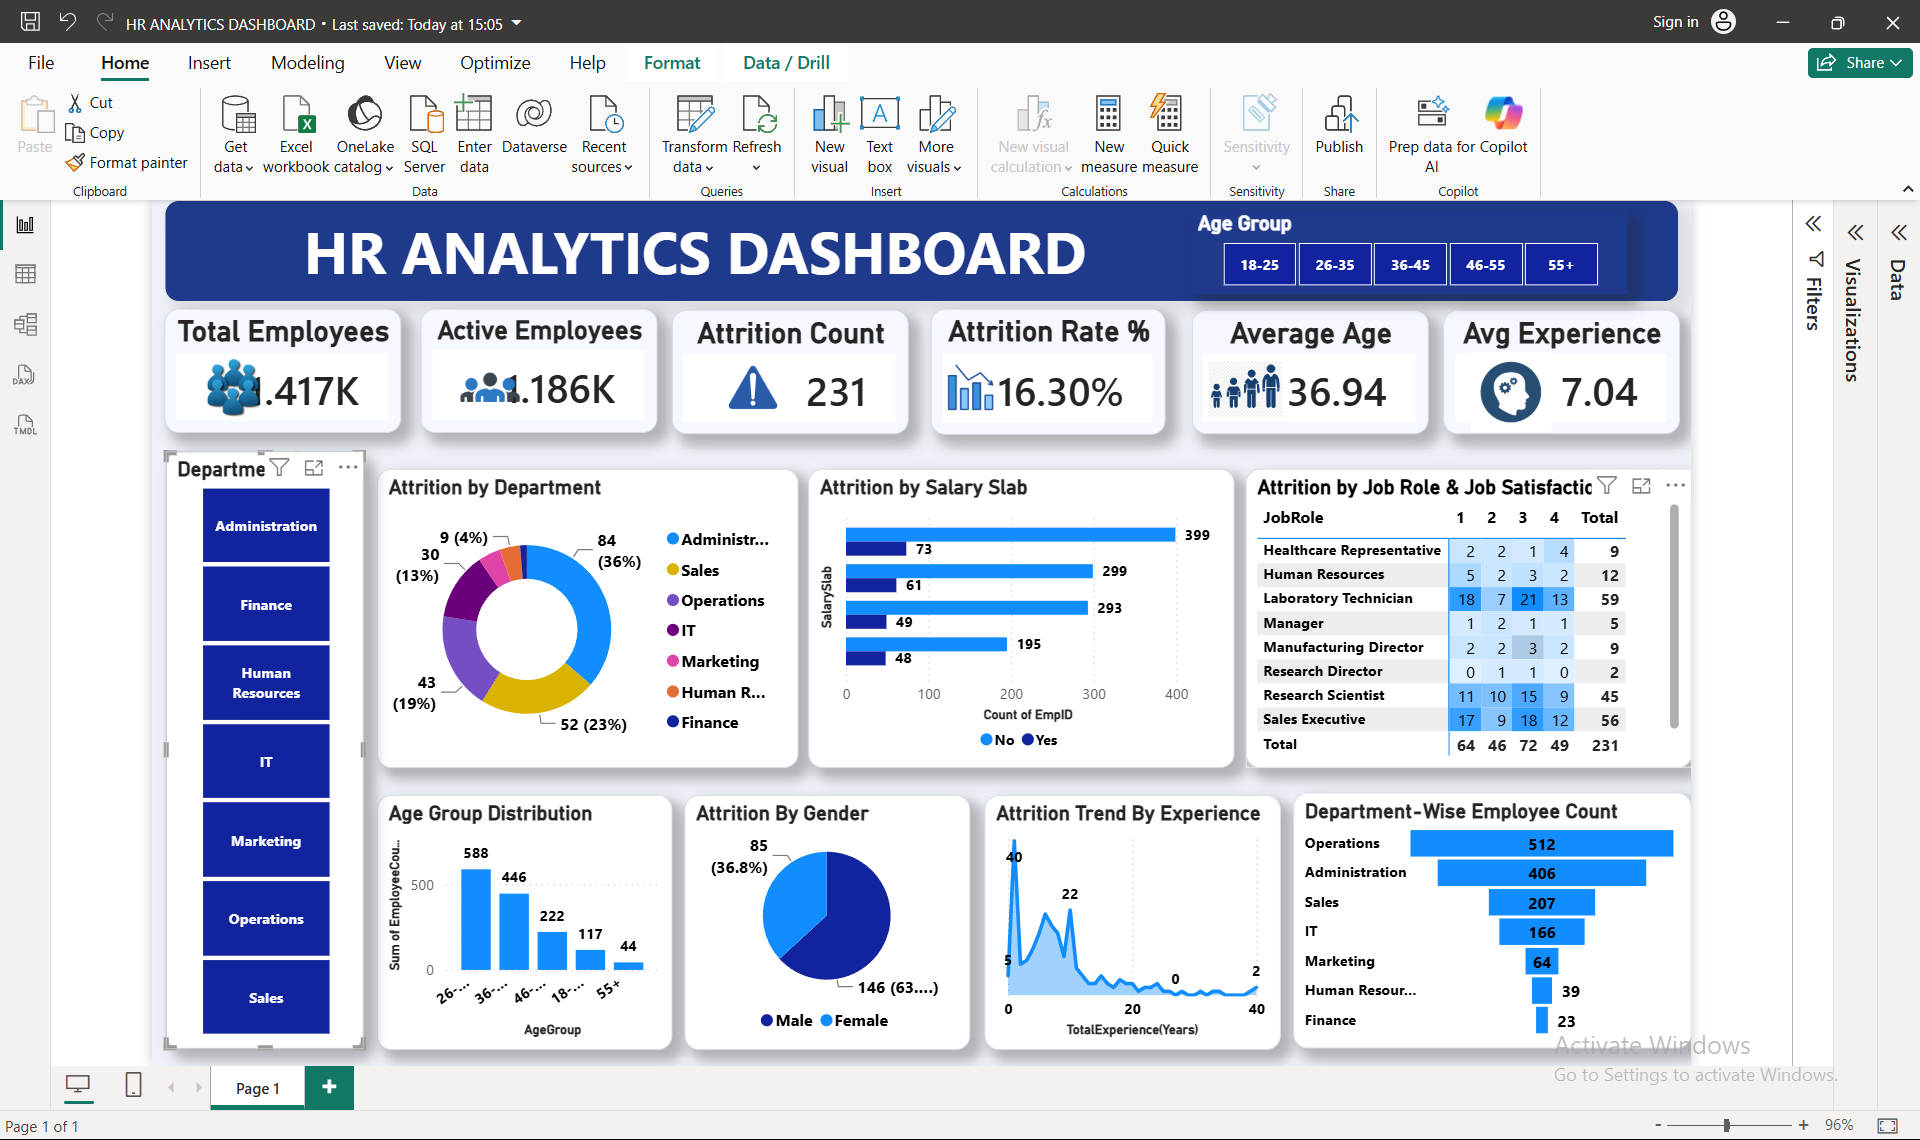

The page's visual inventory and layout, read from the dashboard file:
{"tool":"powerbi","page":{"name":"Page 1","canvas":[1280,720],"ordinal":0},"visuals":[{"type":"textbox","box":[10,0,1259,85],"z":0},{"type":"cardVisual","title":"Total Employees","fields":{"Data":["CountNonNull(HR Analytics Project.EmpID)"]},"box":[10.5,90.7,196.5,103.5],"z":1000},{"type":"cardVisual","title":"Active Employees","fields":{"Data":["CountNonNull(HR Analytics Project.EmployeeNumber)"]},"box":[223.3,90.7,196.5,103.5],"z":2000},{"type":"cardVisual","title":"Average Age","fields":{"Data":["Avg(HR Analytics Project.Age)"]},"box":[865.1,91.9,196.5,103.5],"z":3000},{"type":"cardVisual","title":"Attrition Count","fields":{"Data":["Sum(HR Analytics Project.AttritionCount)"]},"box":[432.6,91.9,196.5,103.5],"z":4000},{"type":"cardVisual","title":"Avg Experience","fields":{"Data":["Avg(HR Analytics Project.YearsatCompany)"]},"box":[1073.3,91.9,196.5,103.5],"z":5000},{"type":"cardVisual","title":"Attrition Rate %","fields":{"Data":["HR Analytics Project.Attrition Rate %"]},"box":[647.7,90.7,195.3,104.7],"z":6000},{"type":"image","box":[21.8,129.9,54,49.9],"z":7000},{"type":"image","box":[232.8,118.5,59.2,74.8],"z":8000},{"type":"image","box":[473.3,125.6,53.5,60.5],"z":9000},{"type":"image","box":[660.5,132.6,39.5,45.3],"z":10000},{"type":"image","box":[877.9,119.8,61.6,75.6],"z":11000},{"type":"image","box":[1089.5,125.6,81.4,67.4],"z":12000},{"type":"donutChart","title":"Attrition by Department","fields":{"Category":["HR Analytics Project.Department"],"Y":["Sum(HR Analytics Project.AttritionCount)"]},"box":[187.2,223.3,350,248.8],"z":13000},{"type":"clusteredBarChart","title":"Attrition by Salary Slab","fields":{"Category":["HR Analytics Project.SalarySlab"],"Y":["CountNonNull(HR Analytics Project.EmpID)"],"Series":["HR Analytics Project.Attrition"]},"box":[545.4,223.3,354.7,248.8],"z":14000},{"type":"pivotTable","title":"Attrition by Job Role & Job Satisfaction","fields":{"Rows":["HR Analytics Project.JobRole"],"Values":["Sum(HR Analytics Project.AttritionCount)"],"Columns":["HR Analytics Project.JobSatisfaction"]},"box":[909.3,223.3,370.9,248.8],"z":15000},{"type":"columnChart","title":"Age Group Distribution","fields":{"Category":["HR Analytics Project.AgeGroup"],"Y":["Sum(HR Analytics Project.EmployeeCount)"]},"box":[187.2,494.2,245.3,211.6],"z":16000},{"type":"pieChart","title":"Attrition By Gender","fields":{"Category":["HR Analytics Project.Gender"],"Y":["Sum(HR Analytics Project.AttritionCount)"]},"box":[443,494.2,237.2,211.6],"z":17000},{"type":"areaChart","title":"Attrition Trend By Experience","fields":{"Category":["HR Analytics Project.TotalExperience(Years)"],"Y2":["Sum(HR Analytics Project.AttritionCount)"]},"box":[691.9,494.2,246.5,211.6],"z":18000},{"type":"funnel","title":"Department-Wise Employee Count","fields":{"Category":["HR Analytics Project.Department"],"Y":["CountNonNull(HR Analytics Project.EmpID)"]},"box":[948.8,492.6,331.5,213],"z":19000},{"type":"slicer","title":"Department","fields":{"Values":["HR Analytics Project.Department"]},"box":[11.6,209.3,165.1,496.5],"z":20000},{"type":"slicer","title":"Age Group","fields":{"Values":["HR Analytics Project.AgeGroup"]},"box":[865.1,9.3,361.6,68.6],"z":21000}]}

Visuals, with their boxes on the page's 1280x720 design canvas (x1, y1, x2, y2). These are canvas units, not pixel positions in the 1920x1140 screenshot, which may show the page scaled, cropped or inside an application window:
textbox: BBox(10, 0, 1269, 85)
"Total Employees" cardVisual: BBox(10, 91, 207, 194)
"Active Employees" cardVisual: BBox(223, 91, 420, 194)
"Average Age" cardVisual: BBox(865, 92, 1062, 195)
"Attrition Count" cardVisual: BBox(433, 92, 629, 195)
"Avg Experience" cardVisual: BBox(1073, 92, 1270, 195)
"Attrition Rate %" cardVisual: BBox(648, 91, 843, 195)
image: BBox(22, 130, 76, 180)
image: BBox(233, 118, 292, 193)
image: BBox(473, 126, 527, 186)
image: BBox(660, 133, 700, 178)
image: BBox(878, 120, 940, 195)
image: BBox(1090, 126, 1171, 193)
"Attrition by Department" donutChart: BBox(187, 223, 537, 472)
"Attrition by Salary Slab" clusteredBarChart: BBox(545, 223, 900, 472)
"Attrition by Job Role & Job Satisfaction" pivotTable: BBox(909, 223, 1280, 472)
"Age Group Distribution" columnChart: BBox(187, 494, 432, 706)
"Attrition By Gender" pieChart: BBox(443, 494, 680, 706)
"Attrition Trend By Experience" areaChart: BBox(692, 494, 938, 706)
"Department-Wise Employee Count" funnel: BBox(949, 493, 1280, 706)
"Department" slicer: BBox(12, 209, 177, 706)
"Age Group" slicer: BBox(865, 9, 1227, 78)
